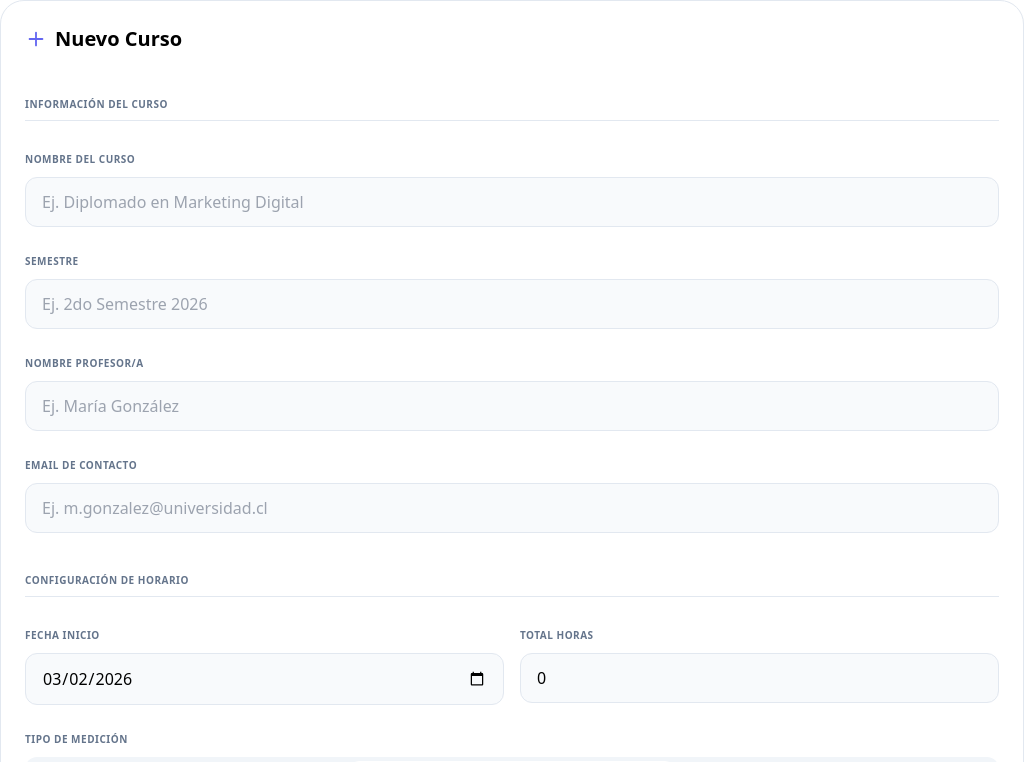
Test: CourseForm — inline validation (CORT-01) › totalHours: error appears after blur with value 0 (D-01)
The image size is (1024, 762).
Click the number field named "TOTAL HORAS": (760, 678) [520, 653, 999, 703]
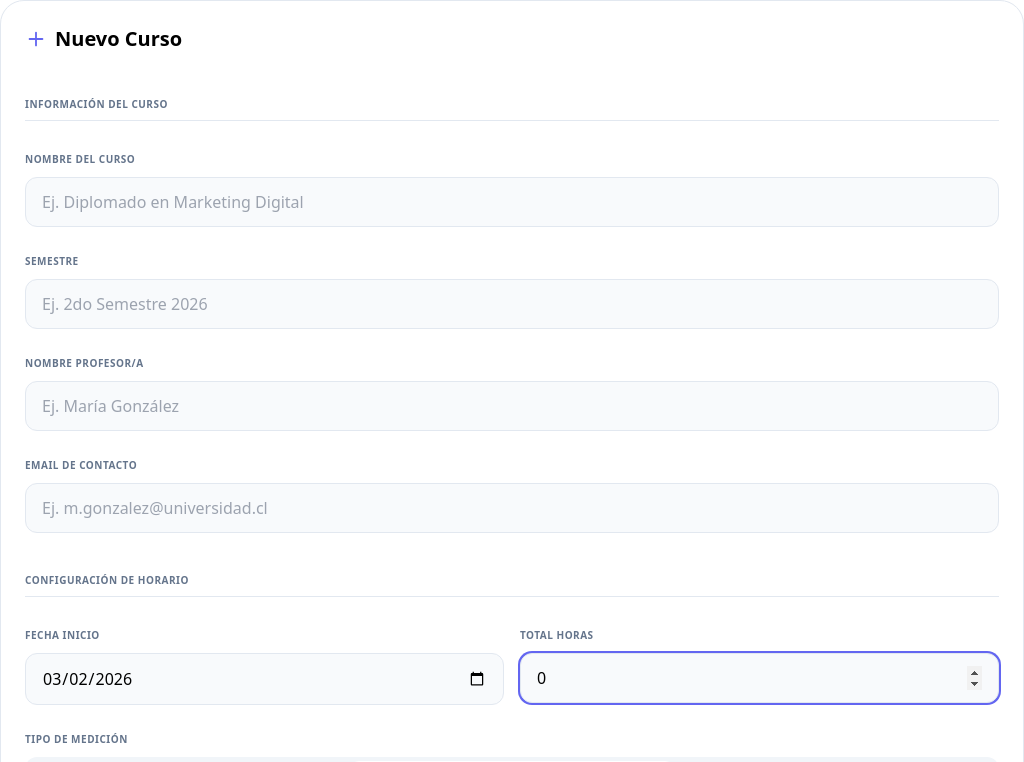
Press Tab
(page scrolled)
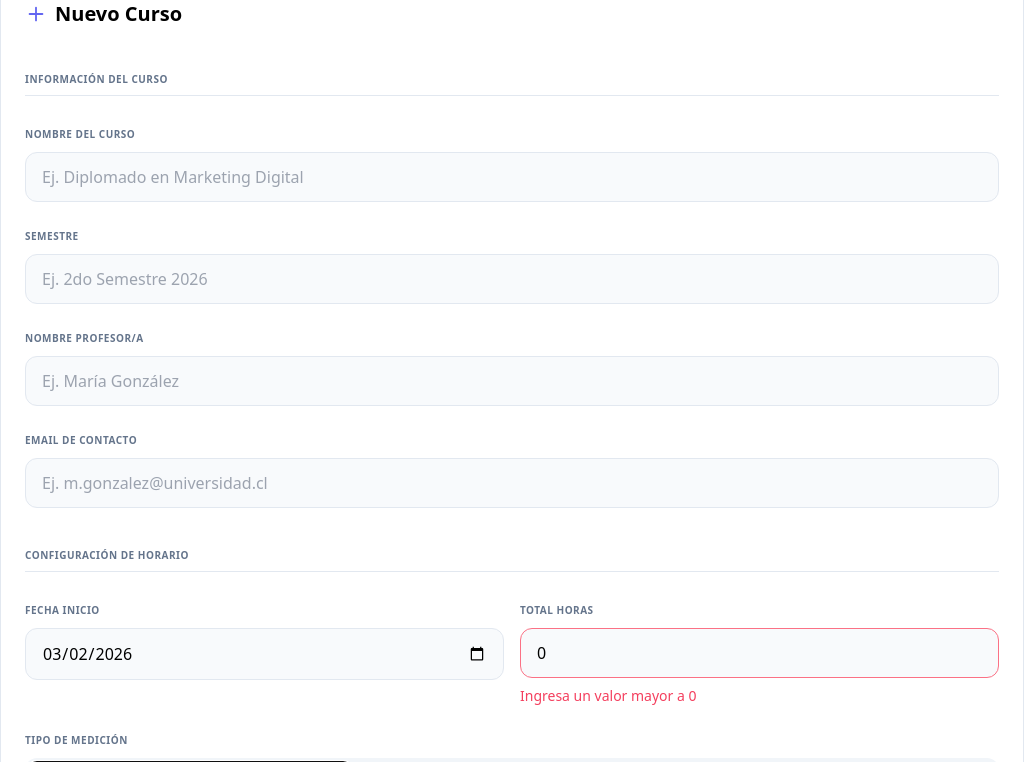
Result: the text "Ingresa un valor mayor a 0" is shown at [520, 686, 696, 705]
